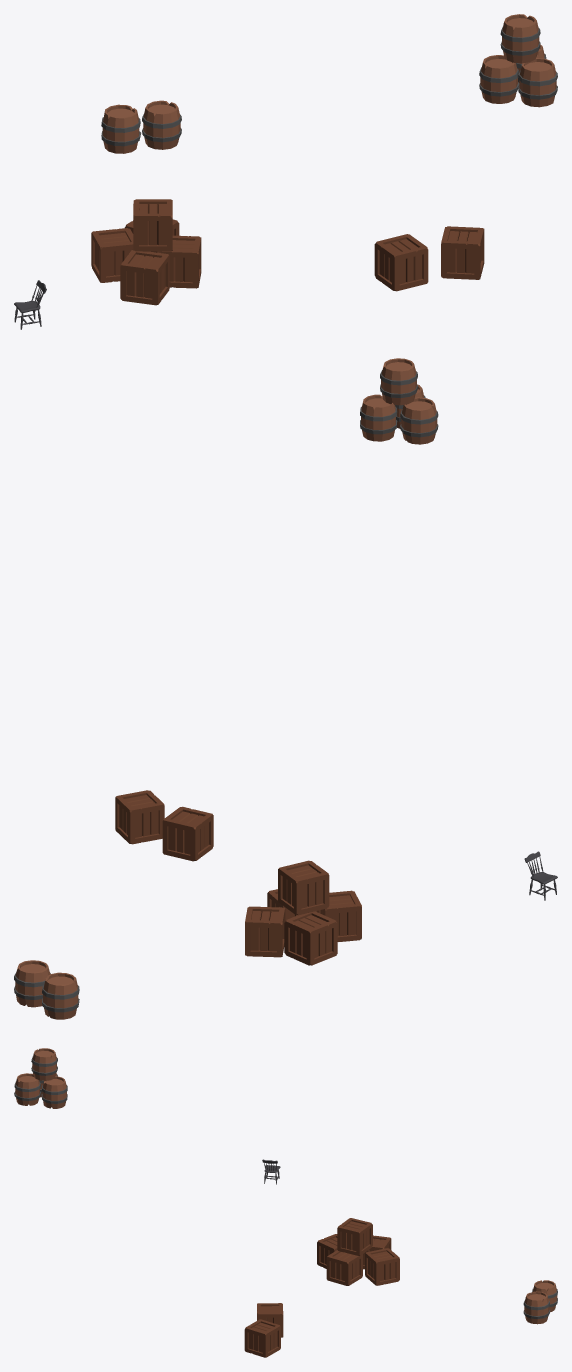
Rendered from ktlr 1.fbx.
The picture shows the model from 3 angles, top to bottom: view 1: azimuth 30°, elevation 25°; view 2: azimuth 150°, elevation 25°; view 3: azimuth 270°, elevation 25°; orthographic projection. The views are drawn at different scales.
Parts seen in each view (by area): view 1: Crate.002, Crate.005, Crate.001, Crate.009, Crate.006, Barrel.004, Crate.008, Barrel.010, Barrel.009, Barrel.001, Barrel.002, Chair.003; view 2: Crate.006, Crate.009, Crate.002, Crate.001, Crate.007, Barrel.010, Barrel.004, Barrel.002, Crate.005, Barrel.003, Barrel.009; view 3: Crate.001, Crate.009, Crate.007, Crate.008, Barrel.004, Barrel.009, Barrel.001, Barrel.003, Crate.002, Crate.005, Barrel.010.
Part boxes in pixels (x1=…): Crate.002: x1=374, y1=234, x2=428, y2=291; Crate.005: x1=120, y1=250, x2=169, y2=305; Crate.001: x1=441, y1=226, x2=484, y2=279; Crate.009: x1=133, y1=199, x2=172, y2=251; Crate.006: x1=91, y1=228, x2=133, y2=282; Barrel.004: x1=500, y1=14, x2=540, y2=63; Crate.008: x1=159, y1=235, x2=201, y2=288; Barrel.010: x1=101, y1=104, x2=141, y2=153; Barrel.009: x1=142, y1=100, x2=181, y2=149; Barrel.001: x1=518, y1=58, x2=557, y2=107; Barrel.002: x1=479, y1=55, x2=519, y2=103; Chair.003: x1=14, y1=280, x2=46, y2=329; Crate.006: x1=284, y1=911, x2=337, y2=965; Crate.009: x1=278, y1=860, x2=329, y2=915; Crate.002: x1=162, y1=806, x2=213, y2=861; Crate.001: x1=115, y1=790, x2=164, y2=844; Crate.007: x1=245, y1=906, x2=285, y2=957; Barrel.010: x1=42, y1=972, x2=79, y2=1019; Barrel.004: x1=380, y1=358, x2=417, y2=405; Barrel.002: x1=400, y1=397, x2=438, y2=444; Crate.005: x1=317, y1=890, x2=361, y2=941; Barrel.003: x1=360, y1=394, x2=397, y2=441; Barrel.009: x1=14, y1=960, x2=50, y2=1007; Crate.001: x1=244, y1=1319, x2=280, y2=1357; Crate.009: x1=337, y1=1218, x2=372, y2=1255; Crate.007: x1=365, y1=1248, x2=399, y2=1285; Crate.008: x1=326, y1=1250, x2=362, y2=1285; Barrel.004: x1=31, y1=1048, x2=57, y2=1080; Barrel.009: x1=523, y1=1291, x2=550, y2=1324; Barrel.001: x1=14, y1=1073, x2=40, y2=1105; Barrel.003: x1=41, y1=1076, x2=67, y2=1108; Crate.002: x1=257, y1=1303, x2=283, y2=1337; Crate.005: x1=317, y1=1234, x2=337, y2=1268; Barrel.010: x1=532, y1=1280, x2=557, y2=1312.
Bounding box in the file's own units: 1636 × 1338 × 2506.
